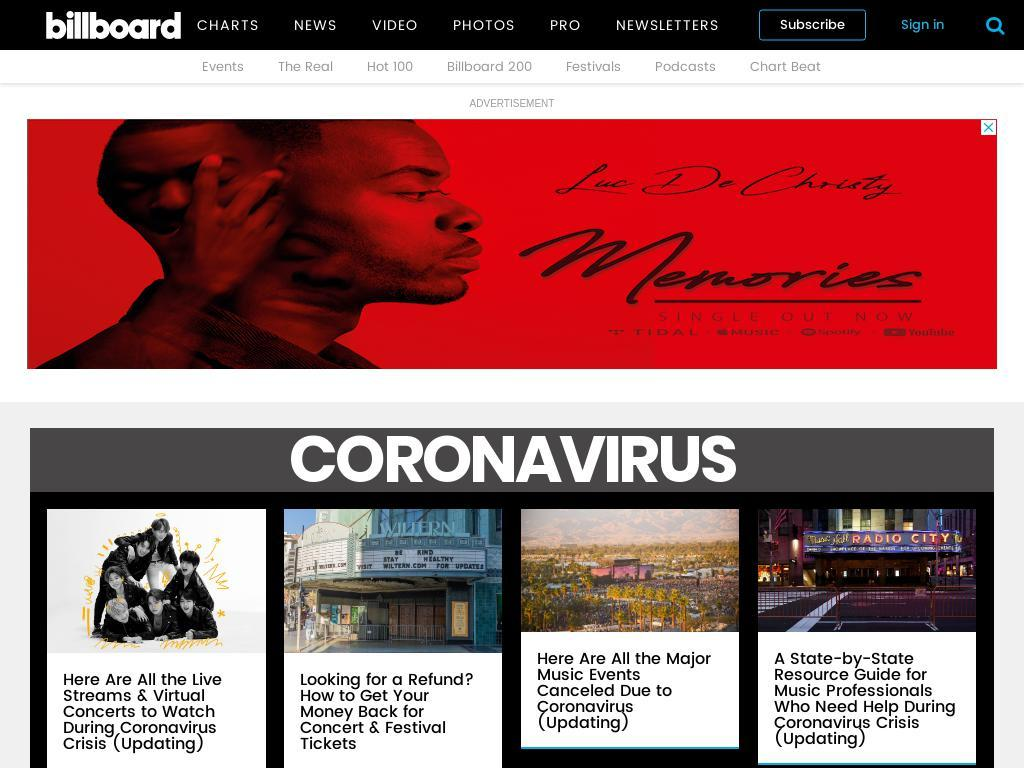button: (0, 0, 182, 50), (601, 0, 734, 50), (47, 635, 267, 662), (284, 635, 503, 662), (521, 613, 740, 640), (758, 613, 977, 640), (182, 0, 274, 50), (438, 0, 530, 50), (357, 0, 433, 50), (427, 50, 542, 83), (279, 0, 352, 50), (759, 9, 866, 41), (730, 50, 831, 83), (535, 0, 596, 50), (635, 50, 726, 83), (258, 50, 343, 83), (546, 50, 631, 83), (347, 50, 423, 83), (182, 50, 254, 83)
heading: (30, 427, 994, 492), (774, 650, 961, 747), (63, 672, 250, 753), (300, 672, 487, 753), (537, 650, 724, 731)
iframe: (27, 119, 997, 369)
image: (47, 509, 266, 654), (284, 509, 503, 654), (521, 509, 740, 632), (758, 509, 977, 632), (27, 11, 200, 39), (965, 0, 1024, 50)
link: (901, 14, 944, 36)
